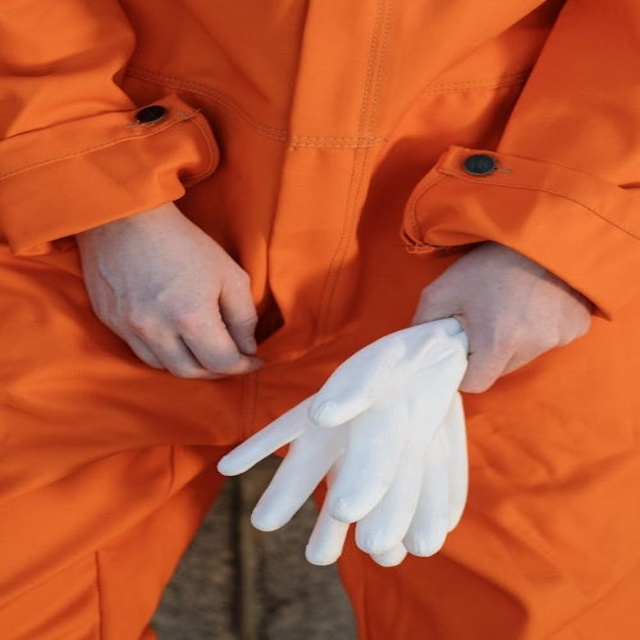Sin_guantes: (79, 206, 269, 383), (410, 243, 593, 395)
